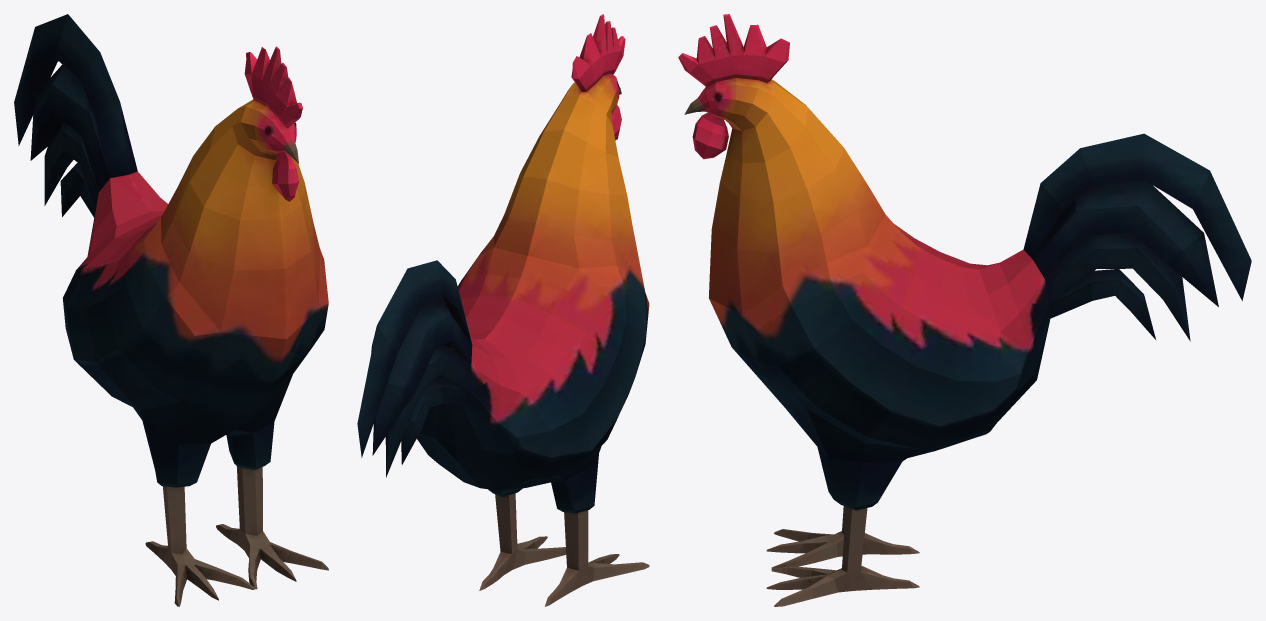
File: animals-rooster-171.glb
3 views of the same model, side by side, from view 1: azimuth 30°, elevation 25°; view 2: azimuth 150°, elevation 25°; view 3: azimuth 270°, elevation 25° (orthographic). The views are drawn at different scales.
Parts seen in each view (by area): view 1: Rooster_mesh; view 2: Rooster_mesh; view 3: Rooster_mesh.
Part boxes in pixels (x1=…): Rooster_mesh: x1=14, y1=14, x2=328, y2=606; Rooster_mesh: x1=357, y1=14, x2=649, y2=606; Rooster_mesh: x1=678, y1=14, x2=1251, y2=606.
Bounding box in the file's own units: 1.29 × 3.47 × 3.24.
1 material, 1 textured.
